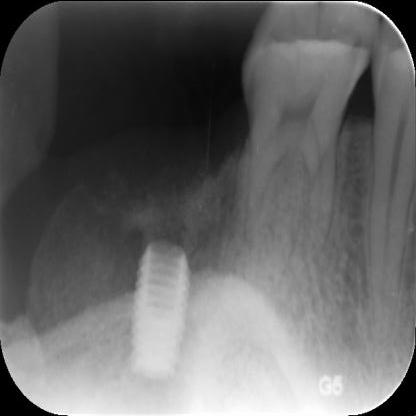Bicon: (127, 233, 194, 378)
